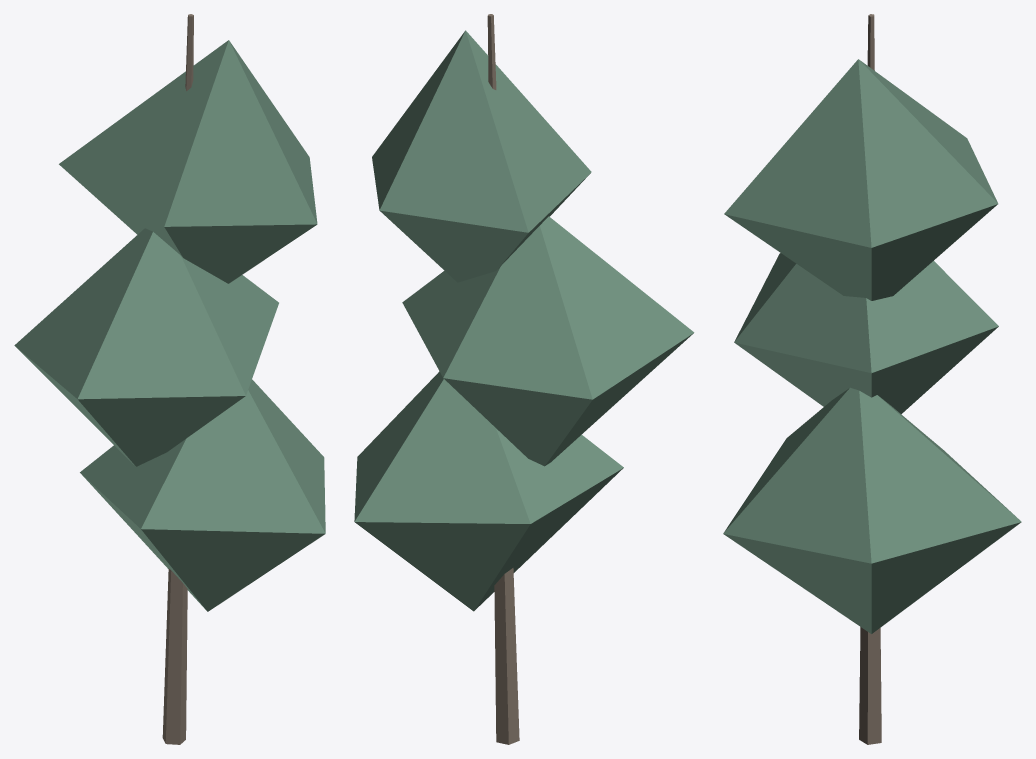
3 views of the same model, side by side, from view 1: azimuth 30°, elevation 25°; view 2: azimuth 150°, elevation 25°; view 3: azimuth 270°, elevation 25° (orthographic).
Size of the model in its own units: 2.59 by 6.12 by 2.26.
